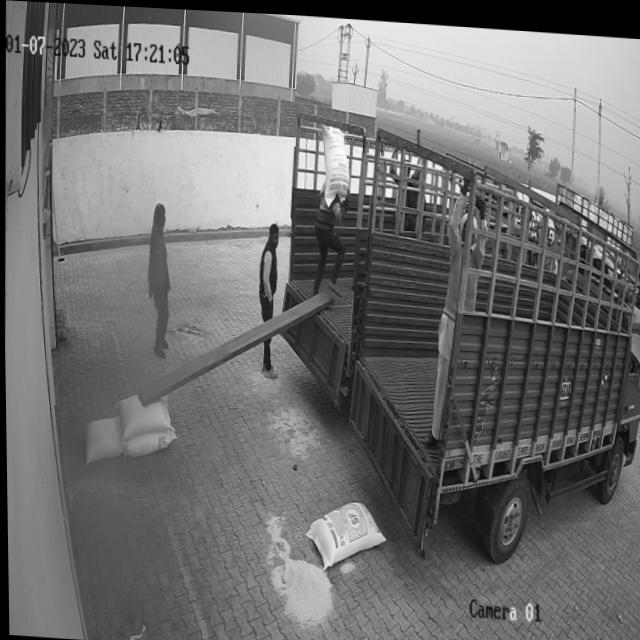sack: (304, 494, 384, 568), (318, 117, 350, 205), (114, 392, 169, 440), (82, 411, 121, 462), (122, 423, 173, 458)
